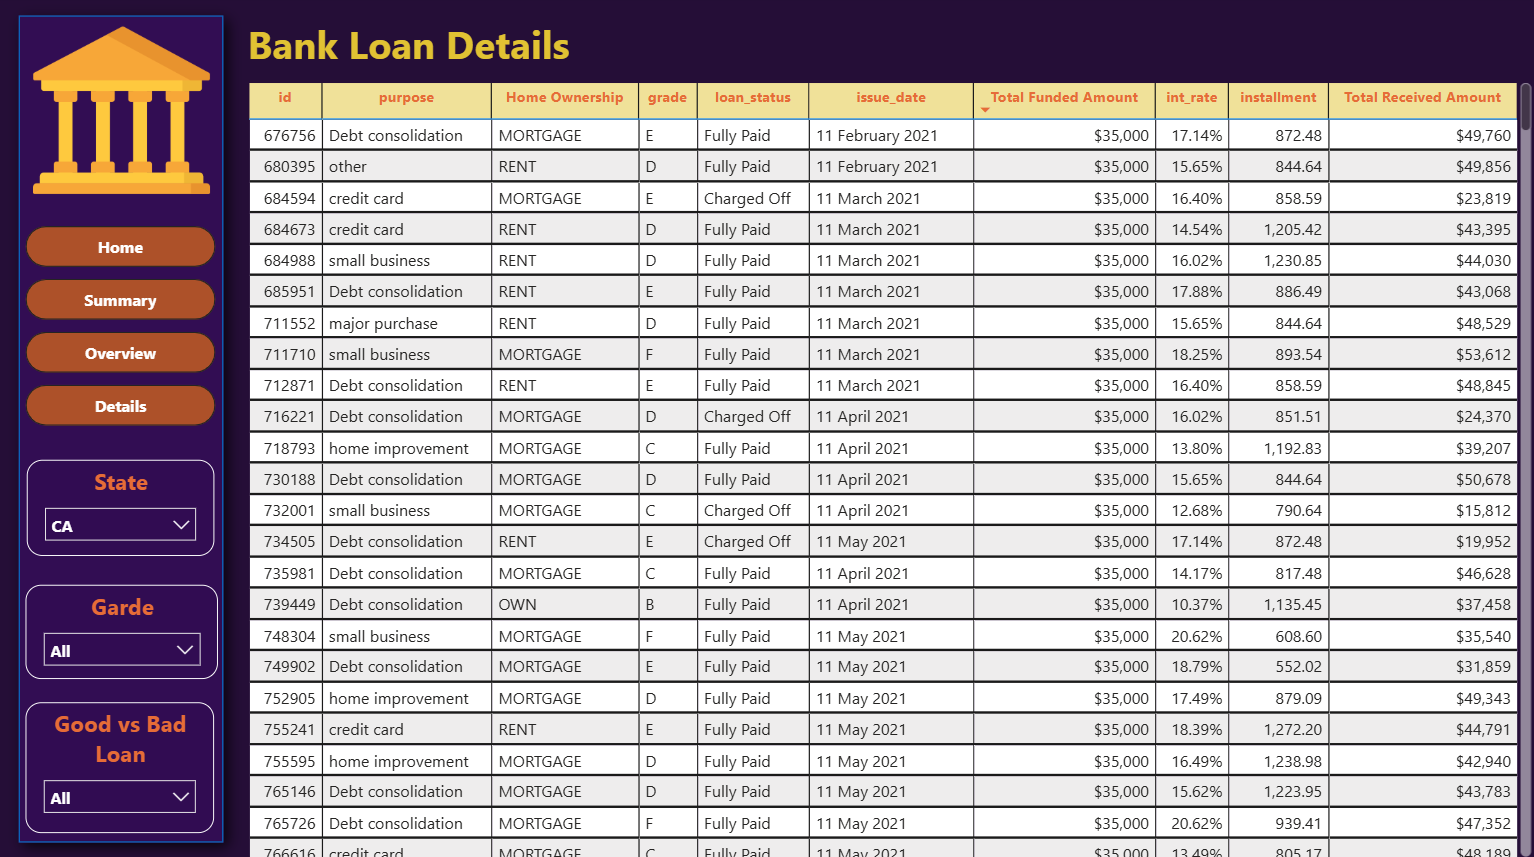

Layout of this report page (visuals, bound fields, positions):
{"tool":"powerbi","page":{"name":"Details","canvas":[1280,720],"ordinal":3},"visuals":[{"type":"shape","box":[1.2,0,202.5,720],"z":0},{"type":"textbox","box":[202.5,13.8,1050,52.5],"z":1000},{"type":"image","box":[29.1,19.7,147.6,150.7],"z":2000},{"type":"tableEx","fields":{"Values":["financial_loan.id","financial_loan.purpose","financial_loan.Home Ownership","financial_loan.grade","financial_loan.loan_status","financial_loan.issue_date","DAX Queries.Total Funded Amount","financial_loan.int_rate","financial_loan.installment","DAX Queries.Total Amount Received"]},"box":[202.9,67.1,1077.1,652.9],"z":3000},{"type":"slicer","title":"State","fields":{"Values":["financial_loan.address_state"]},"box":[24.3,385.7,155.7,80],"z":4000},{"type":"slicer","title":"Garde","fields":{"Values":["financial_loan.grade"]},"box":[22.9,490,160,78.6],"z":5000},{"type":"slicer","title":"Good vs Bad Loan","fields":{"Values":["financial_loan.Good Loan vs Bad Loan"]},"box":[22.8,587.6,156.7,108.9],"z":6000},{"type":"pageNavigator","box":[22.9,191.4,158.6,168.6],"z":7000}]}

Visuals, with their boxes in screenshot pixels (x1, y1, x2, y2), scaled from the page's 1280x720 canvas onto the 1534x857 screenshot:
shape: <bbox>1, 0, 244, 856</bbox>
textbox: <bbox>243, 16, 1501, 79</bbox>
image: <bbox>35, 23, 212, 203</bbox>
tableEx - financial_loan.id x financial_loan.purpose: <bbox>243, 80, 1533, 856</bbox>
"State" slicer: <bbox>29, 459, 216, 554</bbox>
"Garde" slicer: <bbox>27, 583, 219, 677</bbox>
"Good vs Bad Loan" slicer: <bbox>27, 699, 215, 829</bbox>
pageNavigator: <bbox>27, 228, 218, 428</bbox>
